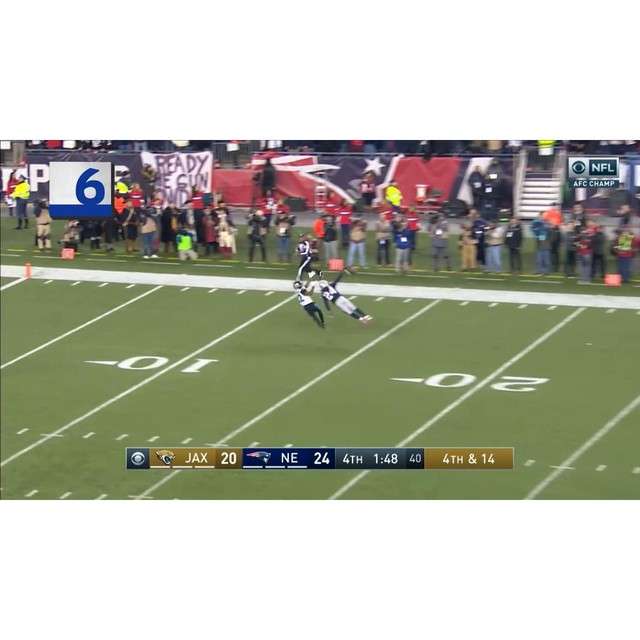american-football-player: (316, 275, 374, 325), (294, 281, 327, 328)
referee: (293, 232, 320, 286)
